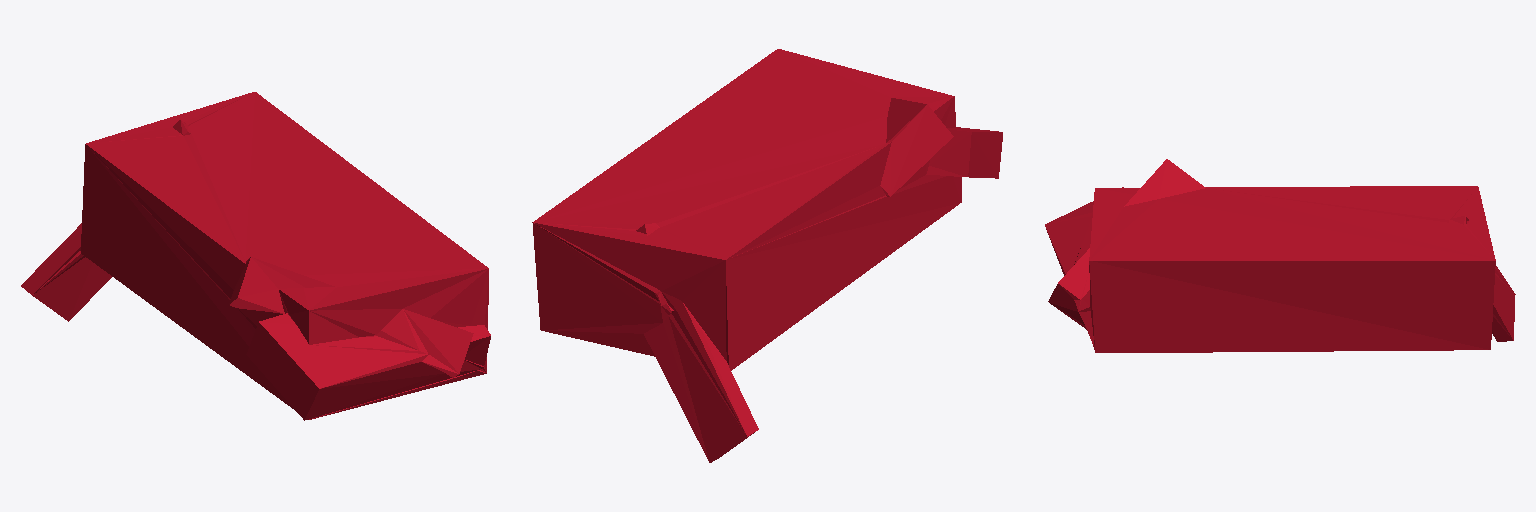
URDF robot description (blob702):

<robot name="blob702">
  <link name="random_obj_702">
    <contact>
      <lateral_friction value="1.0"/>
      <rolling_friction value="0.0"/>
      <inertia_scaling value="3.0"/>
      <contact_cfm value="0.0"/>
      <contact_erp value="1.0"/>
    </contact>
    <inertial>
      <origin rpy="0 0 0" xyz="0 0 0"/>
      <mass value="0.1016"/>
      <inertia ixx="1" ixy="0" ixz="0" iyy="1" iyz="0" izz="0"/>
    </inertial>
    <visual>
      <origin rpy="0 0 0" xyz="0 0 0"/>
      <geometry>
        <mesh filename="702.obj" scale="0.0090 0.0090 0.0090"/>
      </geometry>
      <material name="blockmat">
        <color rgba="0.76 0.12 0.21 1"/>
      </material>
    </visual>
    <collision>
      <origin rpy="0 0 0" xyz="0 0 0"/>
      <geometry>
        <mesh filename="702_coll.obj" scale="0.0090 0.0090 0.0090"/>
      </geometry>
    </collision>
  </link>
</robot>

--- Render facts (derived) ---
Views: 3 orthographic renders of the robot side by side, from view 1: azimuth 30°, elevation 25°; view 2: azimuth 150°, elevation 25°; view 3: azimuth 270°, elevation 25°.
Model blob702 with 1 links and 0 joints (none), rooted at random_obj_702, posed every joint at zero.
Visible links, largest first — view 1: random_obj_702; view 2: random_obj_702; view 3: random_obj_702.
Boxes of the visible links, box(x1,y1,x2,y2) form: random_obj_702: box(21, 92, 490, 420); random_obj_702: box(532, 49, 1002, 462); random_obj_702: box(1045, 159, 1515, 352).
Bounding box of the posed robot: 0.06 × 0.1283 × 0.0538 m (x, y, z).
1 mesh visuals loaded from 1 distinct referenced files (1 OBJ).
